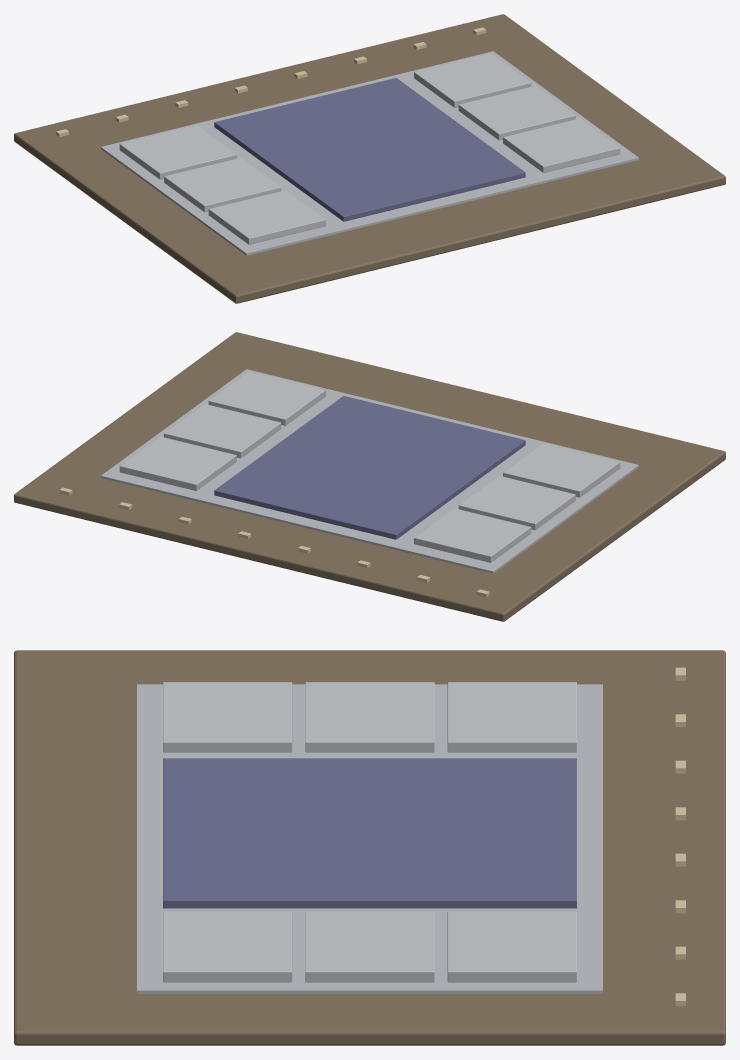
The model's file is package.glb.
The picture shows the model from 3 angles, top to bottom: view 1: azimuth 30°, elevation 25°; view 2: azimuth 150°, elevation 25°; view 3: azimuth 270°, elevation 25°; orthographic projection. The views are drawn at different scales.
Visible parts, largest first — view 1: substrate, die, interposer, hbm-10, hbm10, hbm12, hbm-12, hbm11, hbm-11; view 2: substrate, die, interposer, hbm-12, hbm12, hbm10, hbm-10, hbm11, hbm-11; view 3: substrate, die, interposer, hbm-11, hbm-10, hbm-12, hbm10, hbm11, hbm12.
Boxes of the visible parts, x1,y1,x2,y2 form: substrate: (14, 14, 725, 303); die: (214, 78, 525, 221); interposer: (101, 51, 638, 255); hbm-10: (208, 190, 325, 244); hbm10: (503, 118, 620, 172); hbm12: (414, 53, 531, 107); hbm-12: (119, 125, 236, 179); hbm11: (458, 86, 575, 140); hbm-11: (164, 157, 281, 212); substrate: (14, 332, 725, 621); die: (214, 396, 525, 539); interposer: (101, 369, 638, 573); hbm-12: (414, 508, 531, 562); hbm12: (119, 436, 236, 490); hbm10: (208, 371, 325, 425); hbm-10: (503, 443, 620, 497); hbm11: (164, 404, 281, 458); hbm-11: (458, 475, 575, 530); substrate: (14, 650, 725, 1045); die: (163, 758, 576, 908); interposer: (137, 684, 602, 993); hbm-11: (305, 682, 434, 752); hbm-10: (163, 682, 292, 752); hbm-12: (447, 682, 576, 752); hbm10: (163, 912, 292, 982); hbm11: (305, 912, 434, 982); hbm12: (447, 912, 576, 982).
Size of the model in its own units: 70 by 2.65 by 55.
